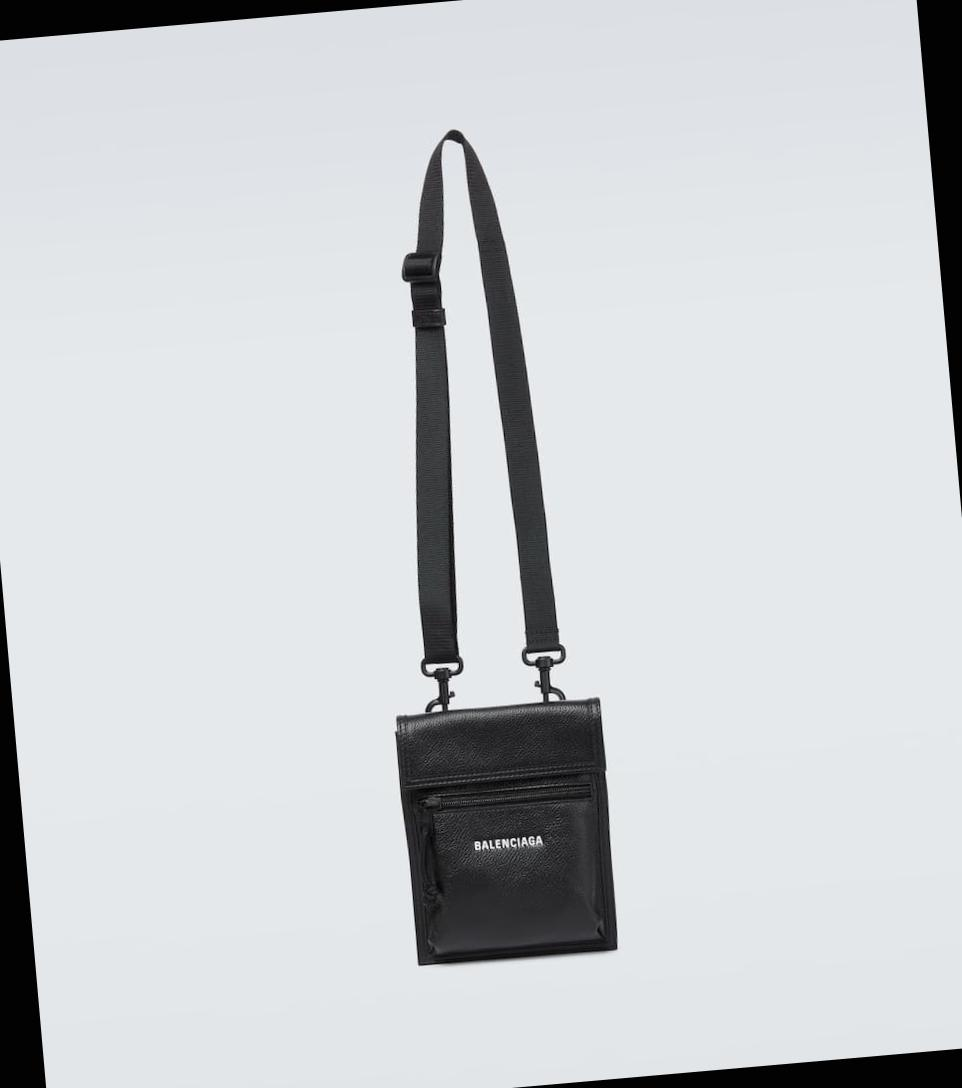BALENCIAGA: (474, 835, 544, 851)
